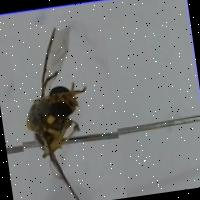Oriental-fruit-fly: (6, 16, 127, 200)
